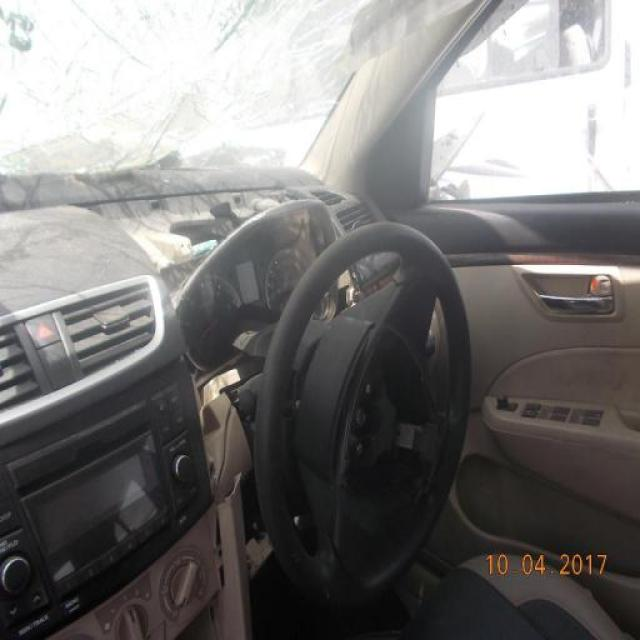crack: (33, 0, 312, 161)
